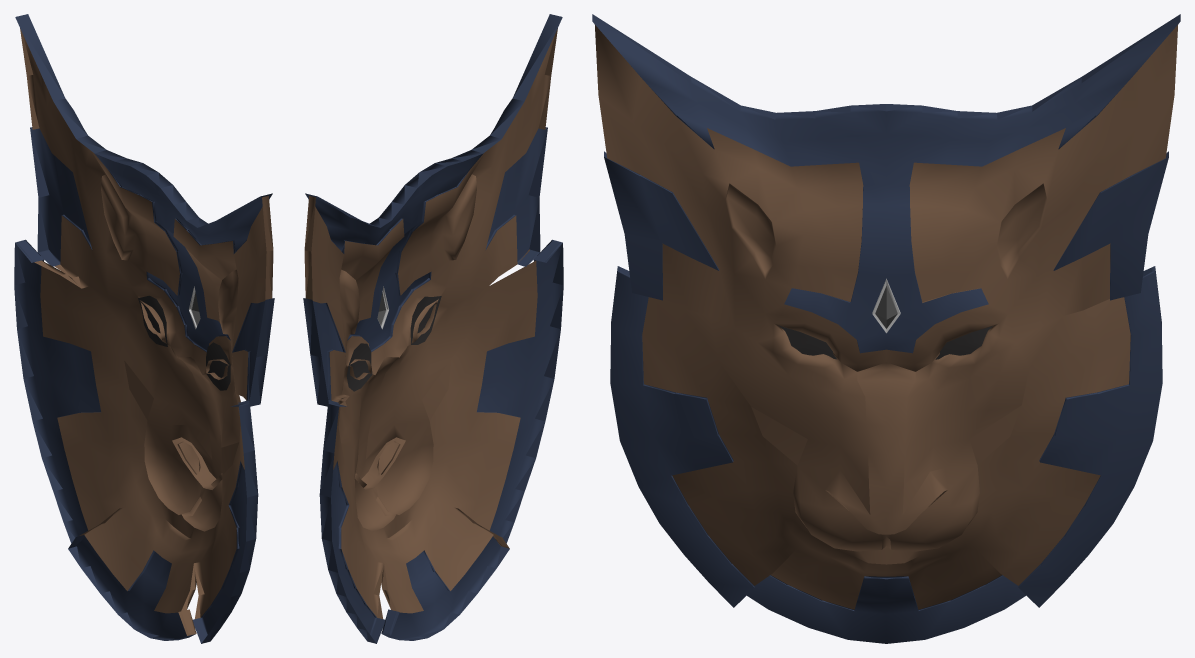
Rendered from Shield.fbx.
3 renders of one model, left to right at view 1: azimuth 30°, elevation 25°; view 2: azimuth 150°, elevation 25°; view 3: azimuth 270°, elevation 25°, orthographic. The views are drawn at different scales.
Visible parts, largest first — view 1: WallShield; view 2: WallShield; view 3: WallShield.
Part boxes in pixels (x1,y1,x2,y2): WallShield: [14, 14, 274, 643]; WallShield: [303, 14, 563, 643]; WallShield: [592, 14, 1180, 643].
Size of the model in its own units: 120 by 645 by 549.
